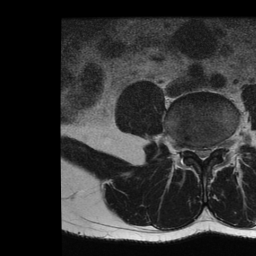CCS_severe_stenosis: (200, 141, 206, 167)
LFS_stenosis: (212, 136, 219, 156)
LLS_stenosis: (205, 141, 212, 162)
RFS_stenosis: (185, 136, 193, 156)
RLS_stenosis: (193, 141, 200, 161)
